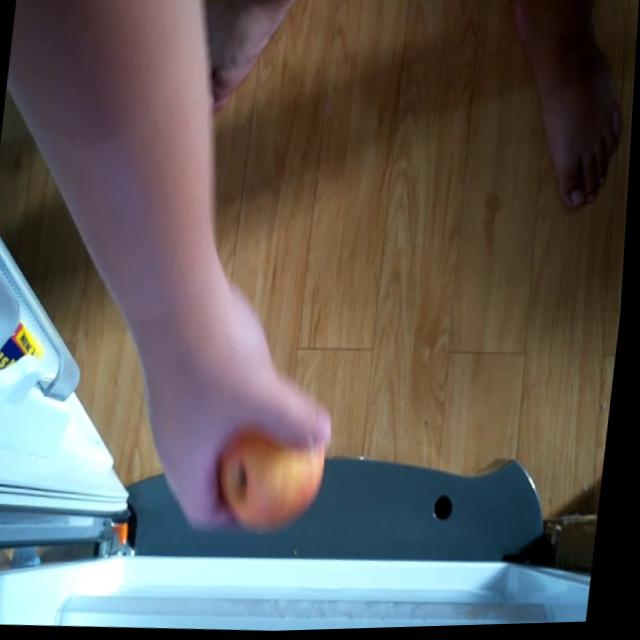apple: (213, 427, 331, 536)
